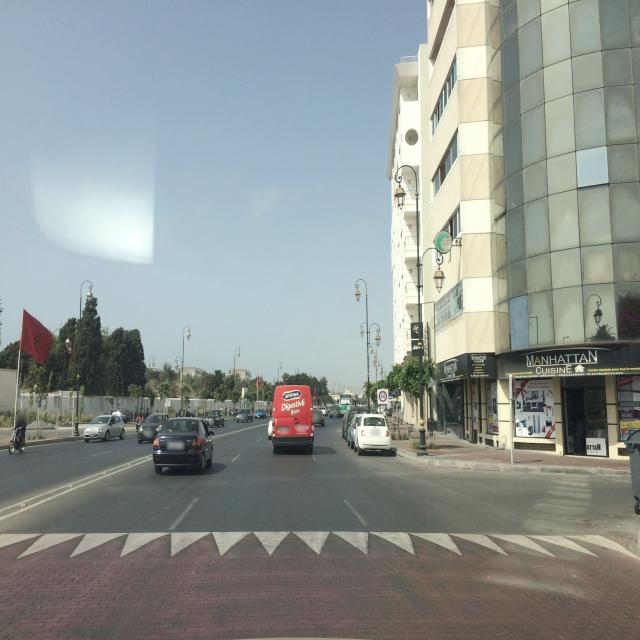bike: (8, 423, 27, 455)
car: (152, 415, 214, 475), (270, 383, 314, 454), (352, 412, 392, 456), (83, 413, 125, 442), (137, 413, 169, 444), (617, 425, 640, 454), (346, 413, 363, 447), (342, 411, 356, 439), (207, 408, 224, 428), (312, 407, 326, 427), (236, 407, 253, 423), (267, 416, 275, 440), (329, 404, 339, 418), (255, 408, 266, 419)
